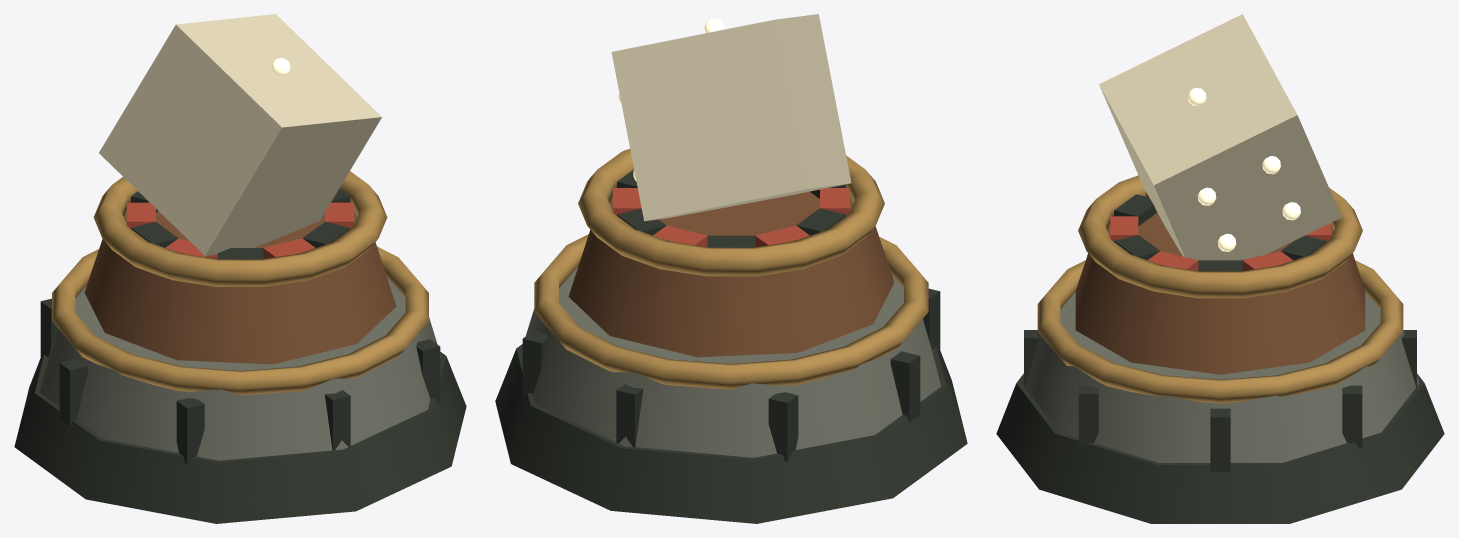
Rendered from tower_gamble.glb.
The picture shows the model from 3 angles, left to right: view 1: azimuth 30°, elevation 25°; view 2: azimuth 150°, elevation 25°; view 3: azimuth 270°, elevation 25°; orthographic projection. The views are drawn at different scales.
Visible parts, largest first — view 1: die_25, foot_0, stone_1, table_11, rim_2, roulette_rim_12, mortar_6, mortar_7, mortar_5, mortar_4, mortar_8, pocket_18 (+5 smaller); view 2: die_25, foot_0, table_11, stone_1, rim_2, roulette_rim_12, mortar_8, mortar_7, mortar_9, mortar_10, mortar_6, pocket_22 (+6 smaller); view 3: die_25, foot_0, stone_1, table_11, rim_2, roulette_rim_12, mortar_3, mortar_4, mortar_10, pocket_20, pocket_19, pocket_18 (+6 smaller).
Boxes of the visible parts, x1,y1,x2,y2 form: die_25: [99, 14, 381, 255]; foot_0: [14, 352, 466, 523]; stone_1: [40, 277, 440, 460]; table_11: [84, 210, 396, 364]; rim_2: [52, 246, 428, 395]; roulette_rim_12: [93, 171, 387, 286]; mortar_6: [176, 398, 204, 464]; mortar_7: [59, 358, 87, 426]; mortar_5: [324, 390, 350, 450]; mortar_4: [416, 339, 440, 403]; mortar_8: [40, 298, 57, 358]; pocket_18: [302, 221, 349, 247]; die_25: [611, 14, 851, 221]; foot_0: [495, 344, 967, 523]; table_11: [568, 191, 894, 357]; stone_1: [522, 266, 940, 457]; rim_2: [534, 234, 928, 389]; roulette_rim_12: [578, 149, 884, 276]; mortar_8: [768, 392, 798, 461]; mortar_7: [890, 351, 920, 422]; mortar_9: [616, 384, 643, 447]; mortar_10: [522, 331, 547, 397]; mortar_6: [923, 288, 940, 350]; pocket_22: [796, 208, 845, 235]; die_25: [1099, 14, 1341, 260]; foot_0: [996, 373, 1444, 523]; stone_1: [1021, 292, 1419, 462]; table_11: [1075, 212, 1365, 374]; rim_2: [1037, 260, 1403, 403]; roulette_rim_12: [1078, 175, 1362, 298]; mortar_3: [1210, 408, 1230, 471]; mortar_4: [1078, 385, 1098, 448]; mortar_10: [1342, 385, 1362, 448]; pocket_20: [1114, 194, 1157, 226]; pocket_19: [1110, 216, 1138, 241]; pocket_18: [1114, 235, 1159, 260].
Bounding box in the file's own units: 0.5326 × 0.5439 × 0.56.
